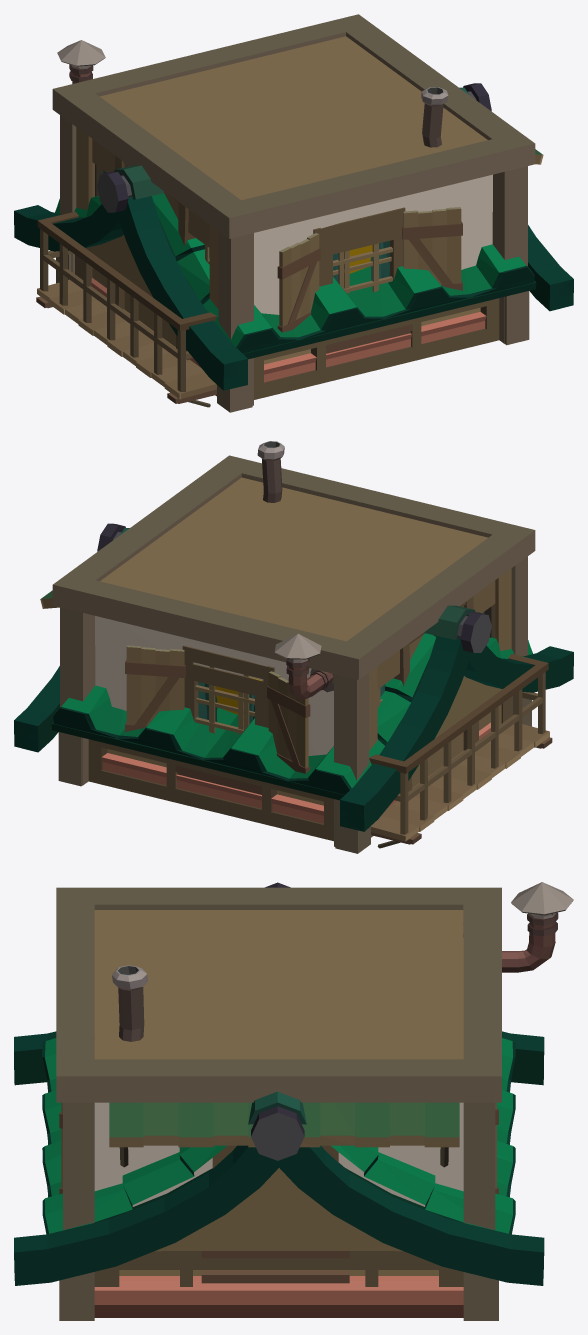
3 renders of one model, top to bottom at view 1: azimuth 30°, elevation 25°; view 2: azimuth 150°, elevation 25°; view 3: azimuth 270°, elevation 25°, orthographic. The views are drawn at different scales.
Parts seen in each view (by area): view 1: smallHouseMidFloor, smallHouseRoof, smallHouseBase; view 2: smallHouseMidFloor, smallHouseRoof, smallHouseBase; view 3: smallHouseMidFloor, smallHouseRoof, smallHouseBase.
Part boxes in pixels (bbox=[...]): smallHouseMidFloor: bbox=[36, 14, 543, 407]; smallHouseRoof: bbox=[14, 83, 573, 412]; smallHouseBase: bbox=[52, 33, 535, 405]; smallHouseMidFloor: bbox=[40, 455, 552, 848]; smallHouseRoof: bbox=[14, 441, 573, 853]; smallHouseBase: bbox=[60, 474, 535, 846]; smallHouseMidFloor: bbox=[56, 887, 501, 1283]; smallHouseRoof: bbox=[14, 882, 544, 1320]; smallHouseBase: bbox=[56, 882, 573, 1320].
Size of the model in its own units: 0.958 by 0.6235 by 0.9813.
